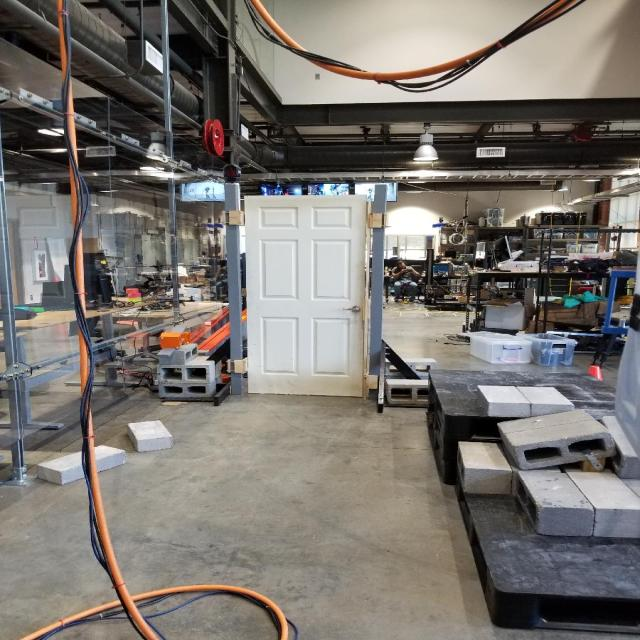doorhandle: (342, 305, 365, 316)
